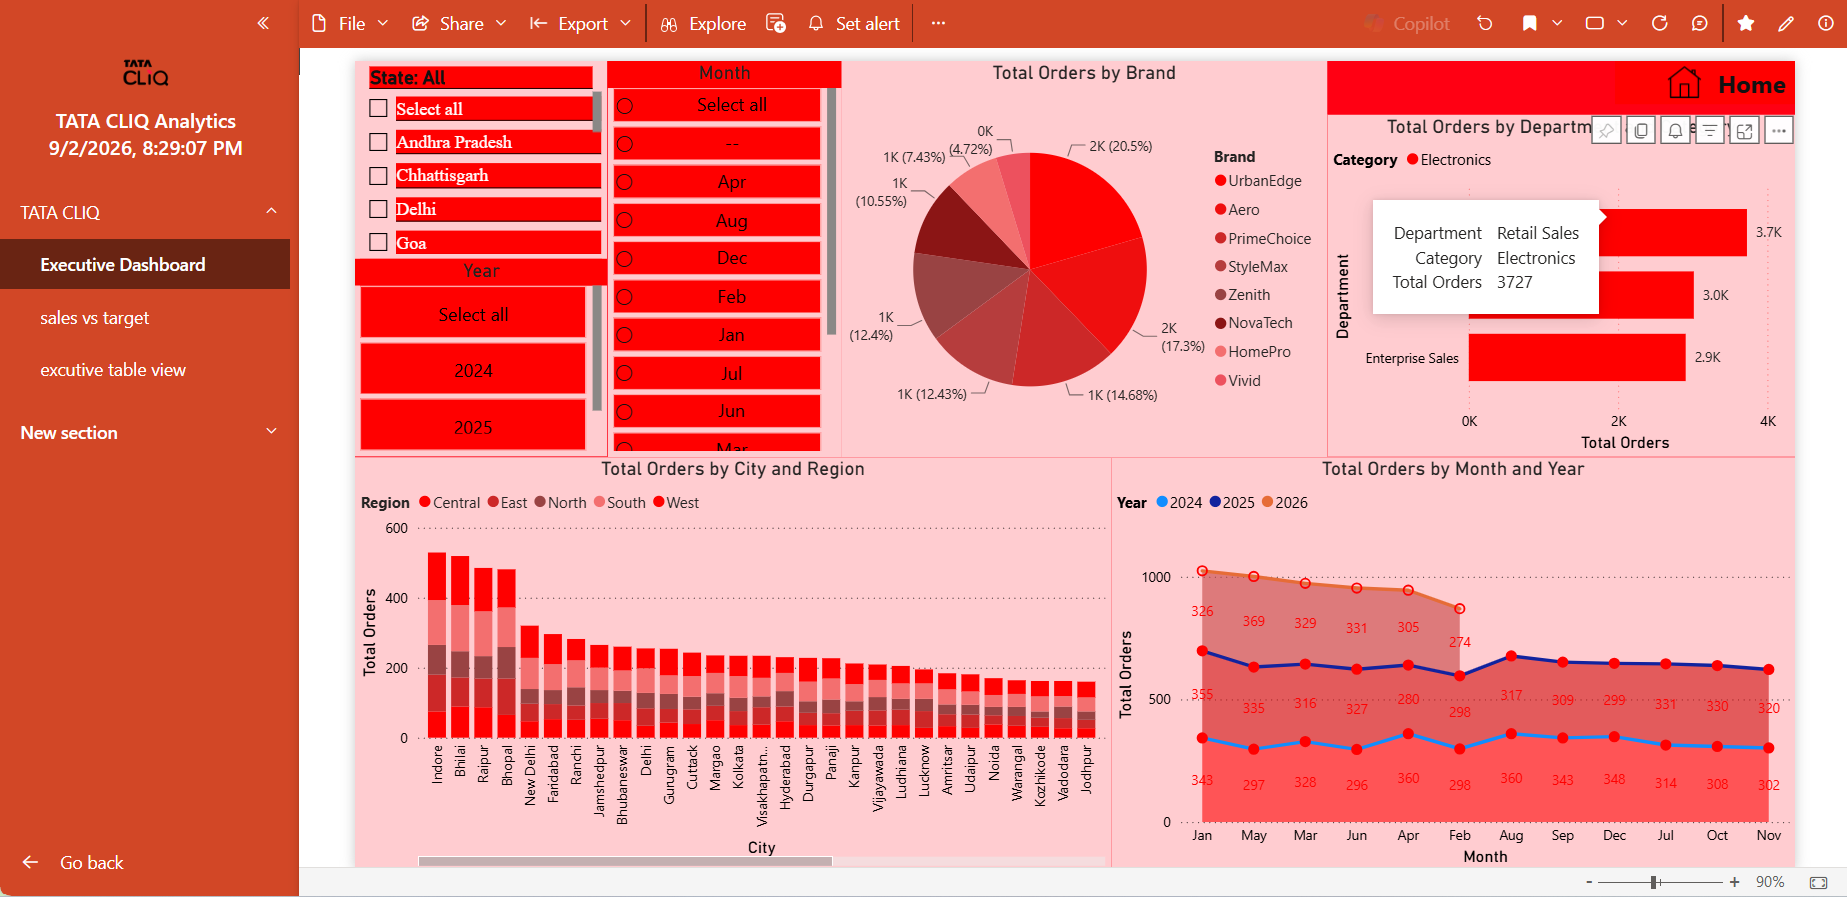

The dashboard page shown, as its layout file describes it:
{"tool":"powerbi","page":{"name":"Executive Dashboard","canvas":[1280,720],"ordinal":0},"visuals":[{"type":"group","id":"g1","title":"filter","box":[0,0,1280,720],"z":0,"group":"g2"},{"type":"actionButton","box":[496.2,592.5,47.5,47.5],"z":0,"group":"g3"},{"type":"cardVisual","fields":{"Data":["FactSales.Average Delivery Days","FactSales.Average Order Value","FactSales.Average Selling Price","FactSales.Return Rate %","FactSales.Returned Orders","FactSales.Returned Quantity","FactSales.VIP Customers"]},"box":[64,0,1216,224],"z":1000,"group":"g3"},{"type":"cardVisual","fields":{"Data":["FactSales.Customer Count","FactSales.Delivered Orders","FactSales.High Value Customers","FactSales.Late Deliveries","FactSales.Late Delivery %","FactSales.Profit Margin %","FactSales.YTD Sales","FactSales.Product Sales Rank"]},"box":[64,224,1216,224],"z":2000,"group":"g3"},{"type":"group","id":"g2","title":"Total Visual","box":[0,0,1280,720],"z":3000},{"type":"group","id":"g3","title":"Total visual","box":[0,0,1280,720],"z":3000,"group":"g1"},{"type":"cardVisual","fields":{"Data":["FactSales.Sales Growth %","FactSales.Sales Growth","FactSales.Total Customers","FactSales.Total Cost","FactSales.Total Orders","FactSales.Total Profit","FactSales.Total Profit","FactSales.Total Quantity","FactSales.Total Returns","FactSales.Total Sales"]},"box":[64,448,1216,272],"z":3000,"group":"g3"},{"type":"actionButton","box":[0,408,64,88],"z":4000,"group":"g3"},{"type":"actionButton","box":[0,88,64,168],"z":5000,"group":"g3"},{"type":"actionButton","box":[0,0,64,112],"z":6000,"group":"g3"},{"type":"actionButton","box":[0,200,64,104],"z":7000,"group":"g3"},{"type":"actionButton","box":[0,264,64,144],"z":8000,"group":"g3"}]}

Visuals, with their boxes on the page's 1280x720 design canvas (x1, y1, x2, y2). These are canvas units, not pixel positions in the 1847x897 screenshot, which may show the page scaled, cropped or inside an application window:
"filter" group: region(0, 0, 1280, 720)
actionButton: region(496, 592, 544, 640)
cardVisual - FactSales.Average Delivery Days x FactSales.Average Order Value: region(64, 0, 1280, 224)
cardVisual - FactSales.Customer Count x FactSales.Delivered Orders: region(64, 224, 1280, 448)
"Total Visual" group: region(0, 0, 1280, 720)
"Total visual" group: region(0, 0, 1280, 720)
cardVisual - FactSales.Sales Growth % x FactSales.Sales Growth: region(64, 448, 1280, 720)
actionButton: region(0, 408, 64, 496)
actionButton: region(0, 88, 64, 256)
actionButton: region(0, 0, 64, 112)
actionButton: region(0, 200, 64, 304)
actionButton: region(0, 264, 64, 408)
